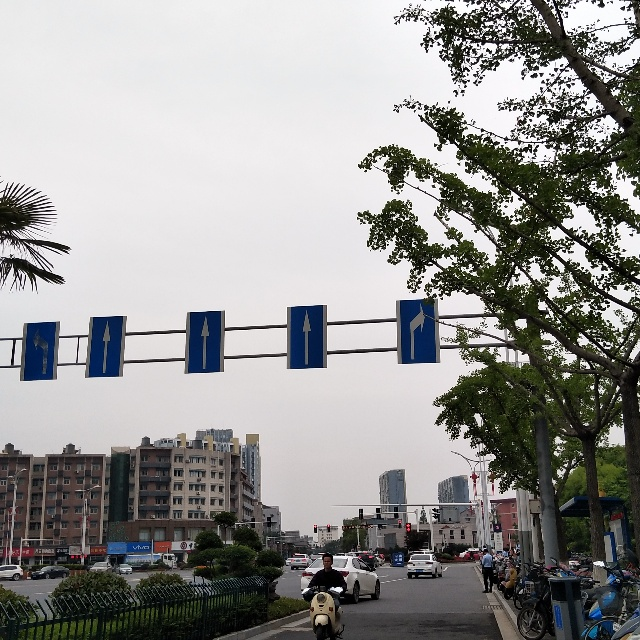left: (21, 322, 60, 382)
right: (394, 296, 441, 365)
straight: (284, 304, 331, 375), (187, 309, 228, 376), (87, 316, 125, 379)
